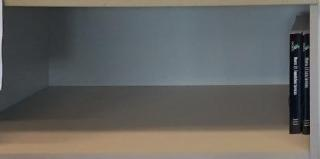book-spine: (290, 34, 301, 135), (302, 34, 310, 135)
